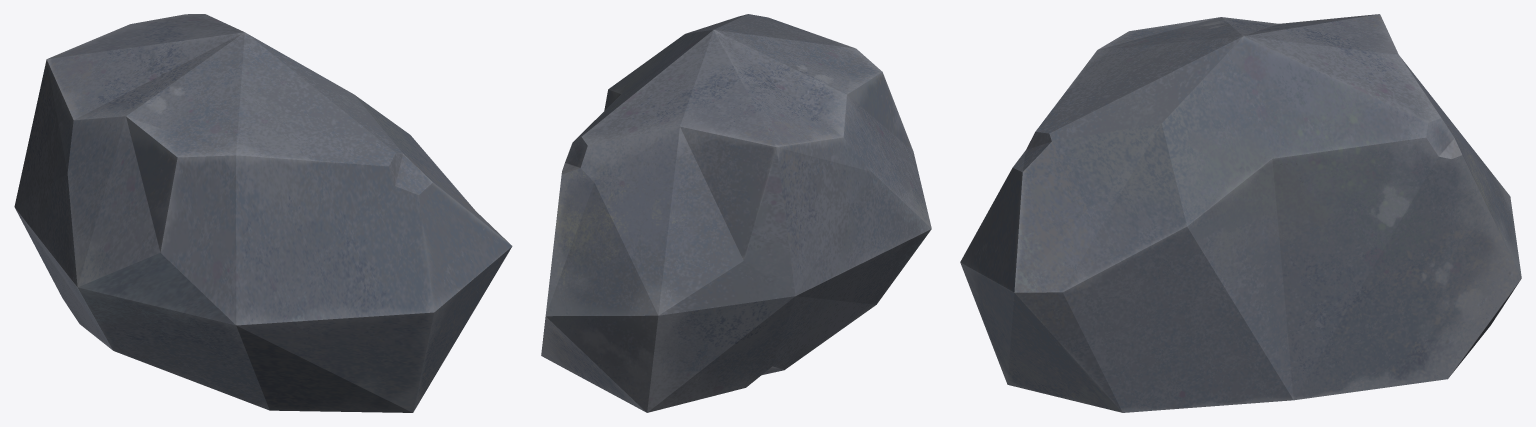
Rendered from stylized_rock_30.fbx.
3 renders of one model, left to right at view 1: azimuth 30°, elevation 25°; view 2: azimuth 150°, elevation 25°; view 3: azimuth 270°, elevation 25°, orthographic. The views are drawn at different scales.
Visible parts, largest first — view 1: stylized_rock_30; view 2: stylized_rock_30; view 3: stylized_rock_30.
Part boxes in pixels (x1,y1,x2,y2): stylized_rock_30: [14, 14, 512, 412]; stylized_rock_30: [541, 14, 931, 412]; stylized_rock_30: [960, 14, 1521, 412].
Bounding box in the file's own units: 89.93 × 78.6 × 119.
